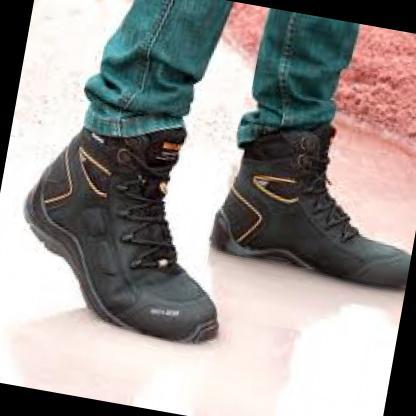safety-shoe: (7, 109, 247, 360), (197, 100, 415, 311)
